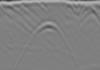hyperbola: (19, 20, 81, 69)
